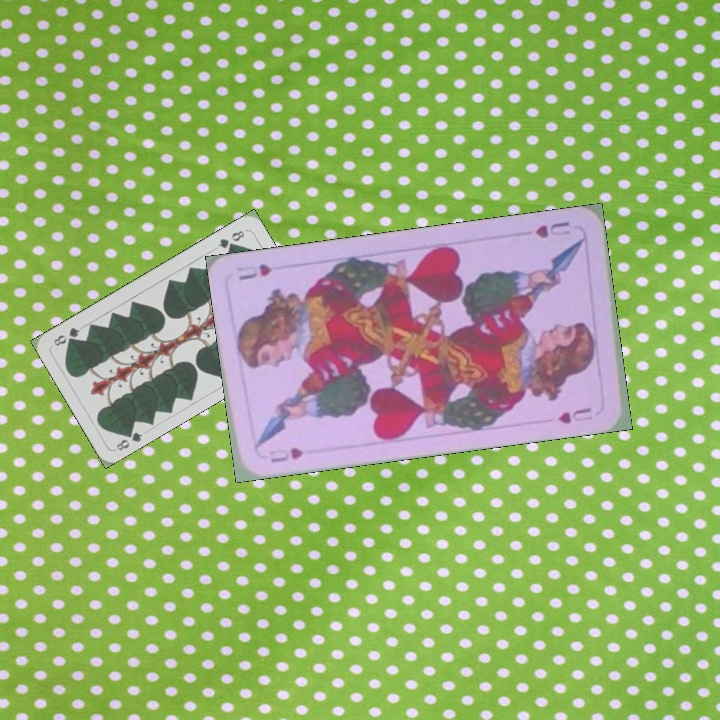G8: (112, 425, 145, 453), (214, 226, 249, 251)
HU: (531, 217, 573, 241), (265, 443, 306, 465)
